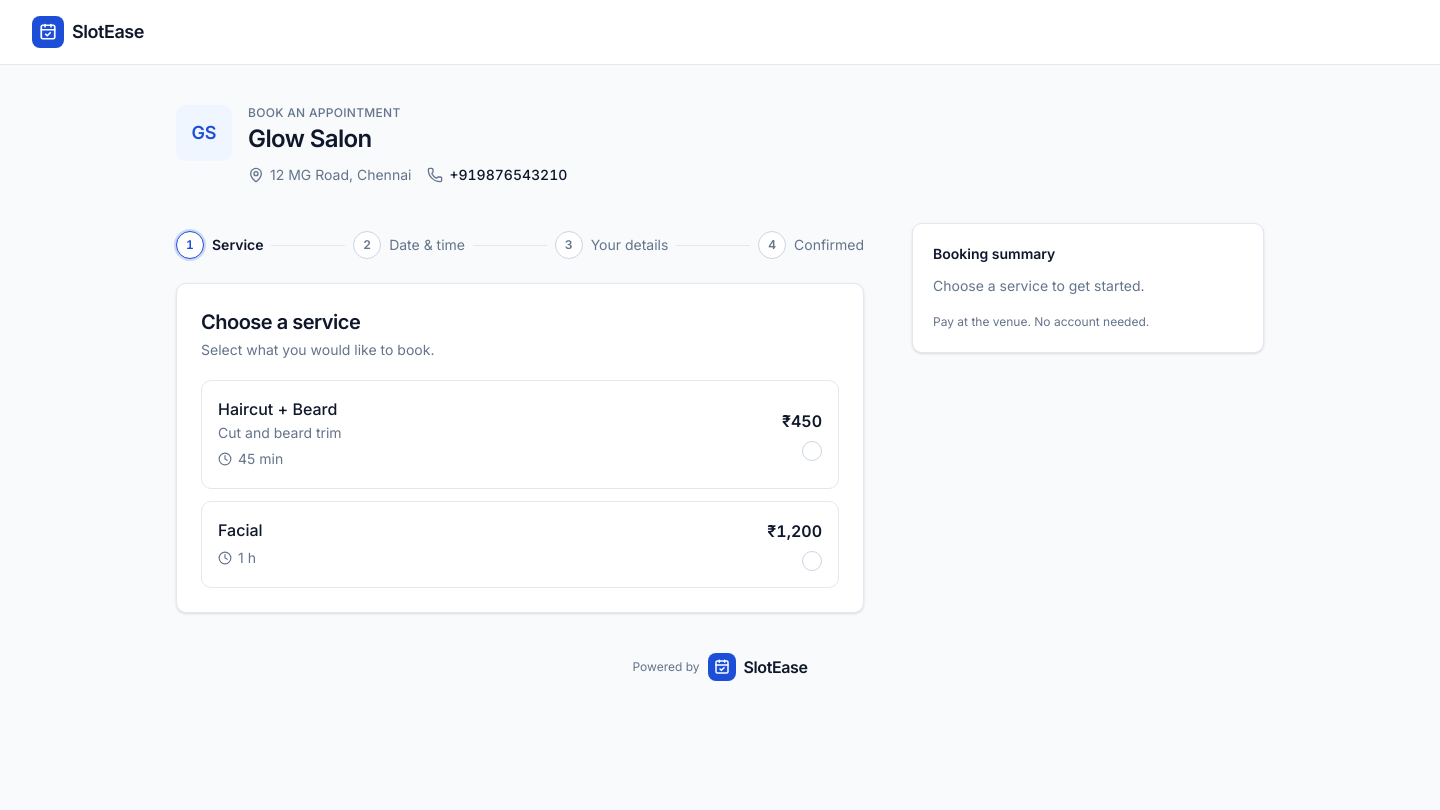
Test case: BookingPage › shows an empty state when there are no free slots
The width and height of the screenshot is (1440, 810).
What coordinates should you click on to do the following:
click the button "Facial 1 h ₹1,200"
I would click on:
 (240, 530)
Its box is [201,501,839,588].
(page scrolled)
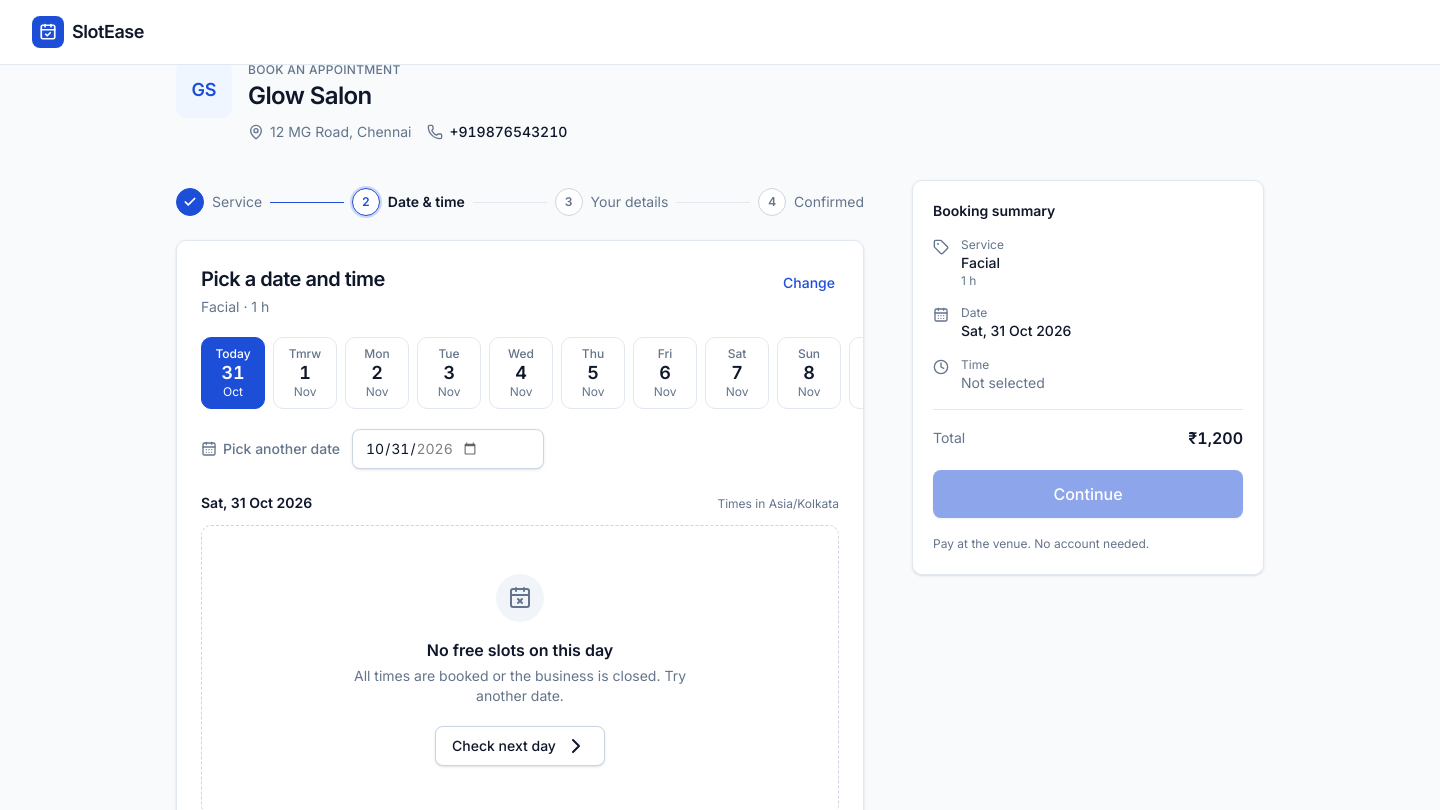
Expected: the heading "No free slots on this day" is shown, [427,638,613,662]
